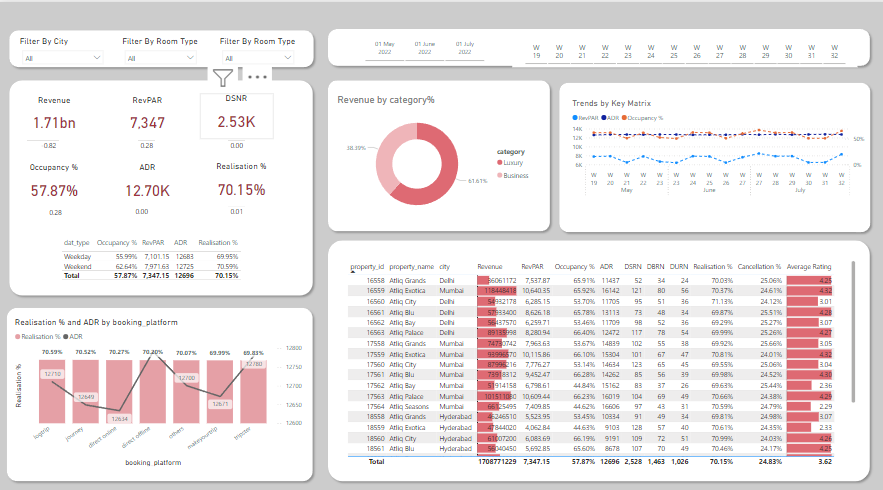

Layout of this report page (visuals, bound fields, positions):
{"tool":"powerbi","page":{"name":"Page 1","canvas":[1800,1100],"ordinal":0},"visuals":[{"type":"shape","box":[655,468.3,1101.7,500],"z":0},{"type":"shape","box":[13.3,603.3,630,365],"z":1000},{"type":"shape","box":[1116.7,151.7,640,316.7],"z":2000},{"type":"shape","box":[655,148.3,461.7,320],"z":3000},{"type":"shape","box":[18.3,148.3,625,448.3],"z":4000},{"type":"shape","box":[655,45,1101.7,91.7],"z":5000},{"type":"shape","box":[16.7,46.7,626.7,91.7],"z":6000},{"type":"tableEx","fields":{"Values":["dim_hotels.property_id","dim_hotels.property_name","dim_hotels.city","key_measures.Revenue","key_measures.RevPAR","key_measures.Occupancy %","key_measures.ADR","key_measures.DSRN","key_measures.DBRN","key_measures.DURN","key_measures.Realisation %","key_measures.Cancellation %"]},"box":[696.7,511.7,1026.7,421.7],"z":7000},{"type":"slicer","title":"Filter By City","fields":{"Values":["dim_hotels.city"]},"box":[41.7,66.7,181.7,58.3],"z":8000},{"type":"slicer","title":"Filter By Room Type","fields":{"Values":["dim_rooms.room_class"]},"box":[248.3,68.3,163.3,58.3],"z":9000},{"type":"slicer","fields":{"Values":["dim_date.mmm yy"]},"box":[711.7,58.3,288.3,66.7],"z":10000},{"type":"slicer","fields":{"Values":["dim_date.week no"]},"box":[1033.3,66.7,690,63.3],"z":11000},{"type":"tableEx","fields":{"Values":["key_measures.Revenue WoW change %"]},"box":[55.6,245.7,120.8,74.1],"z":12000},{"type":"card","title":"Revenue","fields":{"Values":["key_measures.Revenue"]},"box":[42.1,184.9,147.8,90],"z":13000},{"type":"donutChart","title":"Revenue by category%","fields":{"Category":["dim_hotels.category"],"Y":["key_measures.Revenue"]},"box":[678.3,185,403.3,256.7],"z":14000},{"type":"tableEx","fields":{"Values":["key_measures.RevPAR WoW change %"]},"box":[277.3,246,106,62],"z":15000},{"type":"tableEx","fields":{"Values":["key_measures.Occupancy WoW change %"]},"box":[95,380,115,66.7],"z":16000},{"type":"tableEx","fields":{"Values":["key_measures.ADR WoW change %"]},"box":[266.7,378.3,125,66.7],"z":17000},{"type":"tableEx","fields":{"Values":["key_measures.Realisation WoW change %"]},"box":[458.3,376.7,106.7,65],"z":18000},{"type":"card","title":"Occupancy %","fields":{"Values":["key_measures.Occupancy %"]},"box":[43.3,320,146.7,91.7],"z":19000},{"type":"card","title":"RevPAR","fields":{"Values":["key_measures.RevPAR"]},"box":[230.9,185.3,145.5,90.6],"z":20000},{"type":"card","title":"ADR","fields":{"Values":["key_measures.ADR"]},"box":[230,320,145,93.3],"z":21000},{"type":"card","title":"Realisation %","fields":{"Values":["key_measures.Realisation %"]},"box":[418.3,318.3,146.7,91.7],"z":22000},{"type":"tableEx","fields":{"Values":["key_measures.DSRN WoW change %"]},"box":[457.8,246,84,62],"z":23000},{"type":"card","title":"DSNR","fields":{"Values":["key_measures.DSRN"]},"box":[408.3,183.3,146.7,91.7],"z":24000},{"type":"lineChart","title":"Trends by Key Matrix","fields":{"Y":["key_measures.RevPAR","key_measures.ADR"],"Category":["dim_date.mmm yy.Variation.Date Hierarchy.Month","dim_date.week no"],"Y2":["key_measures.Occupancy %"]},"box":[1148.3,193.7,595,205],"z":25000},{"type":"lineStackedColumnComboChart","fields":{"Category":["fact_bookings.booking_platform"],"Y2":["key_measures.ADR"],"Y":["key_measures.Realisation %"]},"box":[31.7,630,585,303.3],"z":26000},{"type":"tableEx","fields":{"Values":["dim_date.dat_type","key_measures.Occupancy %","key_measures.RevPAR","key_measures.ADR","key_measures.Realisation %"]},"box":[125,468.3,370,101.7],"z":27000},{"type":"slicer","title":"Filter By Room Type","fields":{"Values":["dim_rooms.room_class"]},"box":[441.7,66.7,163.3,58.3],"z":27001}]}

Visuals, with their boxes on the page's 1800x1100 design canvas (x1, y1, x2, y2). These are canvas units, not pixel positions in the 883x490 screenshot, which may show the page scaled, cropped or inside an application window:
shape: 655/468/1757/968
shape: 13/603/643/968
shape: 1117/152/1757/468
shape: 655/148/1117/468
shape: 18/148/643/597
shape: 655/45/1757/137
shape: 17/47/643/138
tableEx - dim_hotels.property_id x dim_hotels.property_name: 697/512/1723/933
"Filter By City" slicer: 42/67/223/125
"Filter By Room Type" slicer: 248/68/412/127
slicer - dim_date.mmm yy: 712/58/1000/125
slicer - dim_date.week no: 1033/67/1723/130
tableEx - key_measures.Revenue WoW change %: 56/246/176/320
"Revenue" card: 42/185/190/275
"Revenue by category%" donutChart: 678/185/1082/442
tableEx - key_measures.RevPAR WoW change %: 277/246/383/308
tableEx - key_measures.Occupancy WoW change %: 95/380/210/447
tableEx - key_measures.ADR WoW change %: 267/378/392/445
tableEx - key_measures.Realisation WoW change %: 458/377/565/442
"Occupancy %" card: 43/320/190/412
"RevPAR" card: 231/185/376/276
"ADR" card: 230/320/375/413
"Realisation %" card: 418/318/565/410
tableEx - key_measures.DSRN WoW change %: 458/246/542/308
"DSNR" card: 408/183/555/275
"Trends by Key Matrix" lineChart: 1148/194/1743/399
lineStackedColumnComboChart - fact_bookings.booking_platform x key_measures.ADR: 32/630/617/933
tableEx - dim_date.dat_type x key_measures.Occupancy %: 125/468/495/570
"Filter By Room Type" slicer: 442/67/605/125
